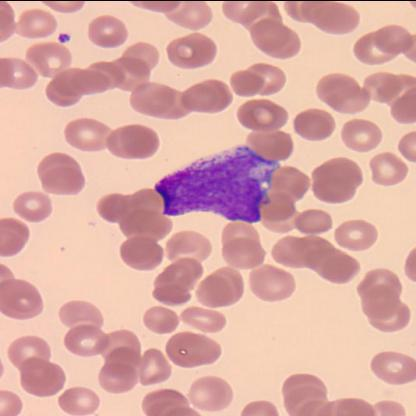Promyelocyte: (154, 145, 281, 223)
